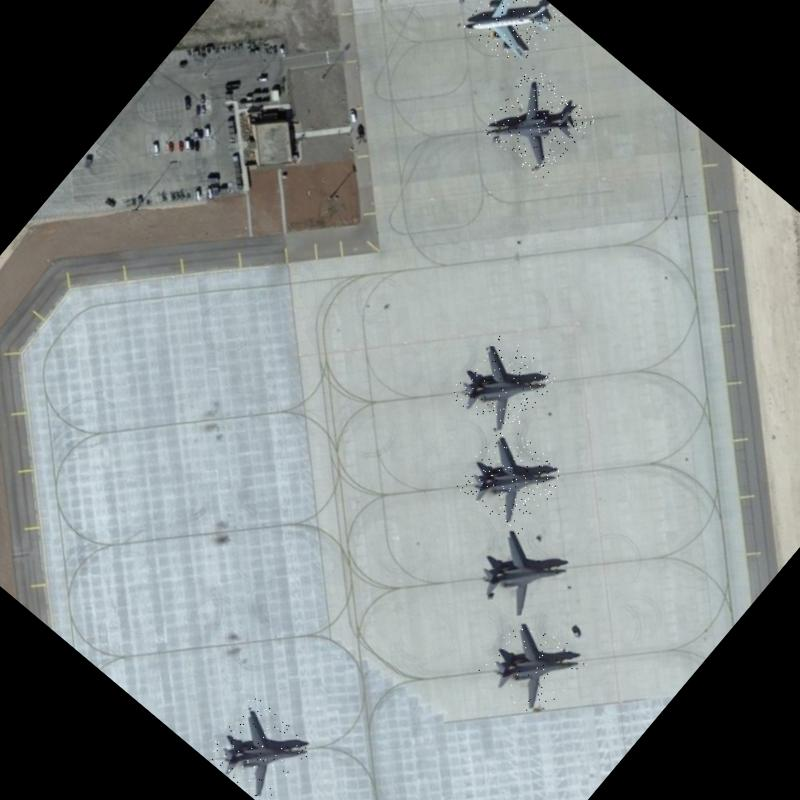A10: (473, 606, 591, 724), (478, 65, 596, 183), (451, 421, 568, 537), (462, 515, 576, 630), (446, 328, 558, 442), (202, 694, 316, 800)
A11: (460, 0, 565, 73)
